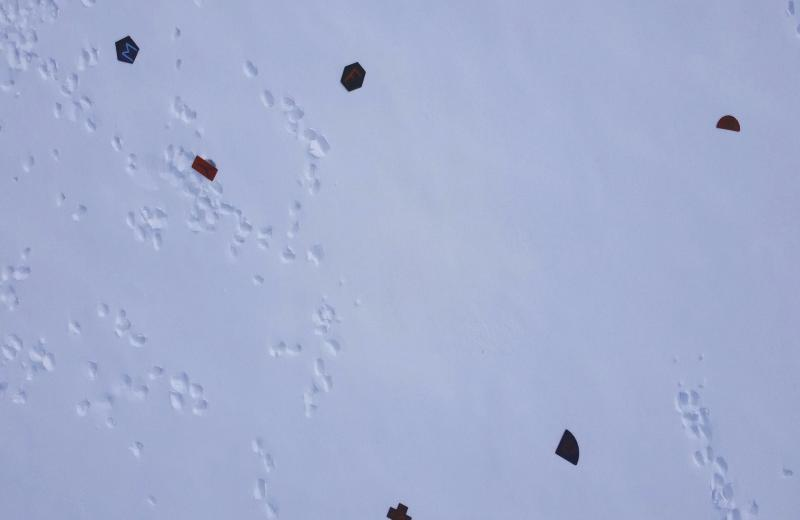Cross: (382, 500, 414, 520)
Hexagon: (340, 61, 366, 92)
Pentagon: (111, 36, 144, 70)
Quarter Circle: (552, 426, 582, 468)
Rectangle: (191, 152, 218, 182)
Semi Circle: (714, 114, 743, 134)
